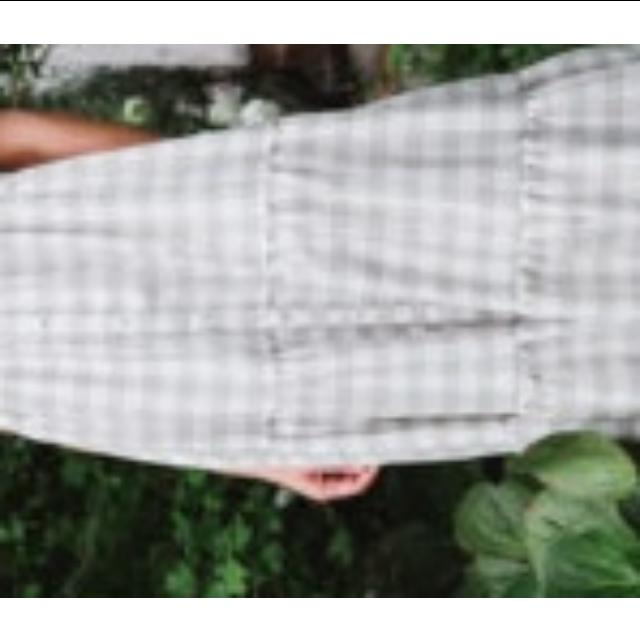linen: (0, 74, 640, 442)
